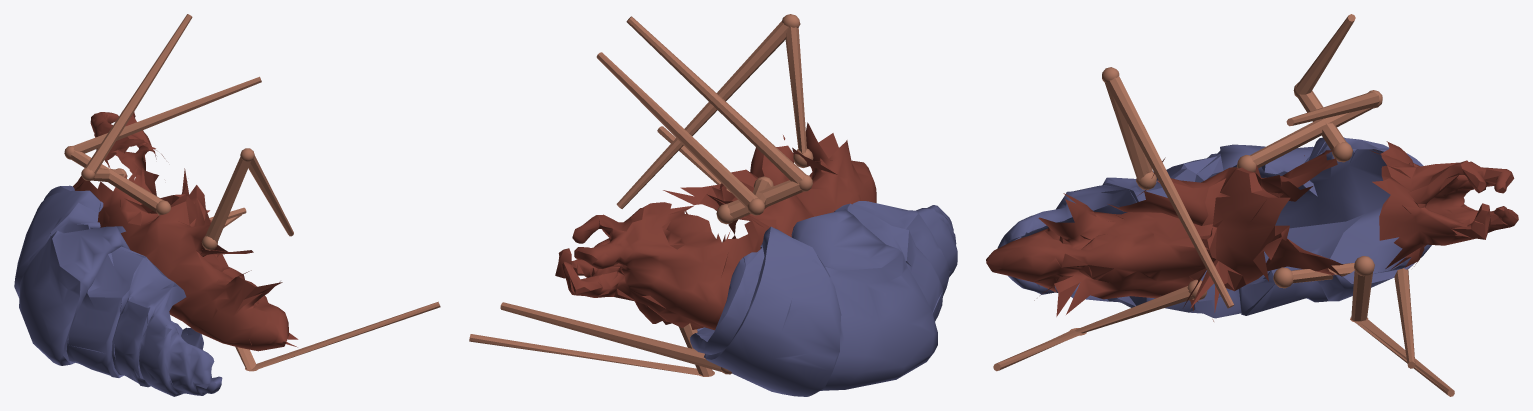
The model's file is big-biter-corpse.glb.
The picture shows the model from 3 angles, left to right: view 1: azimuth 30°, elevation 25°; view 2: azimuth 150°, elevation 25°; view 3: azimuth 270°, elevation 25°; orthographic projection. The views are drawn at different scales.
Visible parts, largest first — view 1: body; view 2: body; view 3: body.
Part boxes in pixels (x1,y1,x2,y2): body: (14,14,440,396); body: (469,14,957,396); body: (986,14,1518,396).
Bounding box in the file's own units: 3.09 × 2.58 × 3.62.
